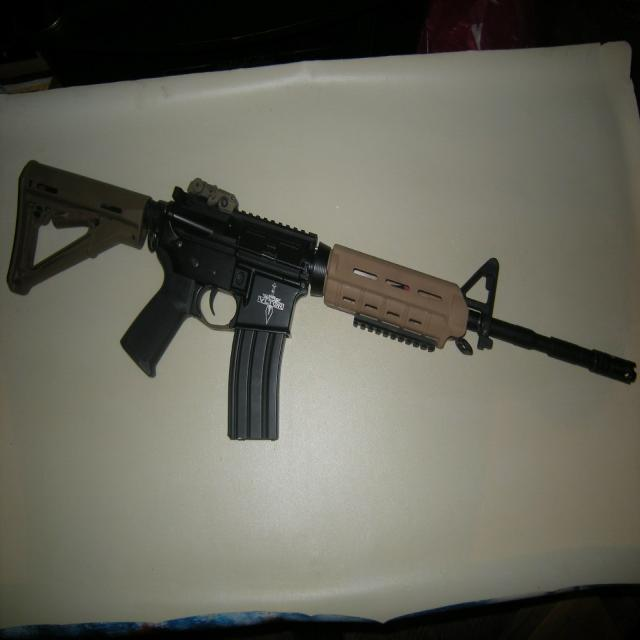firearm: (11, 161, 637, 440)
